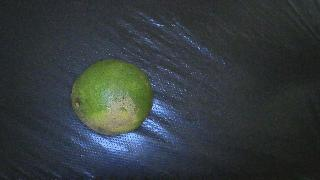DESECHO: (71, 59, 152, 134)
